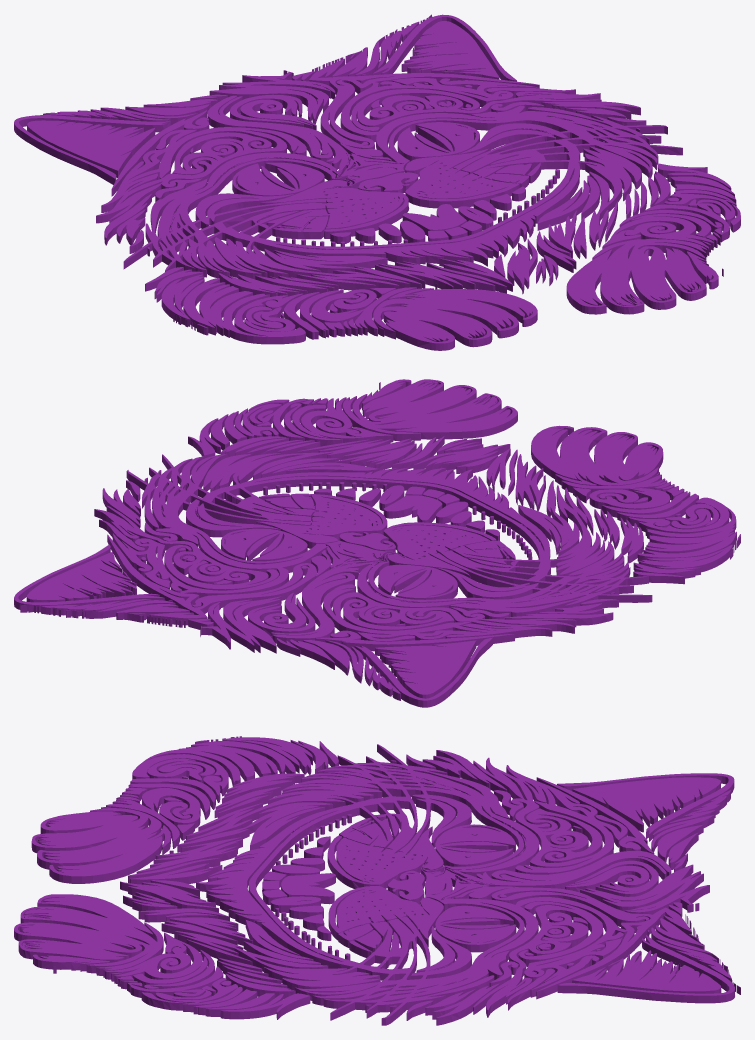
Rendered from cat.glb.
3 renders of one model, top to bottom at view 1: azimuth 30°, elevation 25°; view 2: azimuth 150°, elevation 25°; view 3: azimuth 270°, elevation 25°, orthographic. The views are drawn at different scales.
Parts seen in each view (by area): view 1: Mesh_Mesh_head_geo.001_lambert2SG.001; view 2: Mesh_Mesh_head_geo.001_lambert2SG.001; view 3: Mesh_Mesh_head_geo.001_lambert2SG.001.
Boxes of the visible parts, x1=… form: Mesh_Mesh_head_geo.001_lambert2SG.001: x1=14, y1=14, x2=740, y2=350; Mesh_Mesh_head_geo.001_lambert2SG.001: x1=14, y1=379, x2=740, y2=707; Mesh_Mesh_head_geo.001_lambert2SG.001: x1=14, y1=736, x2=740, y2=1025.
Bounding box in the file's own units: 796 × 10 × 867.
